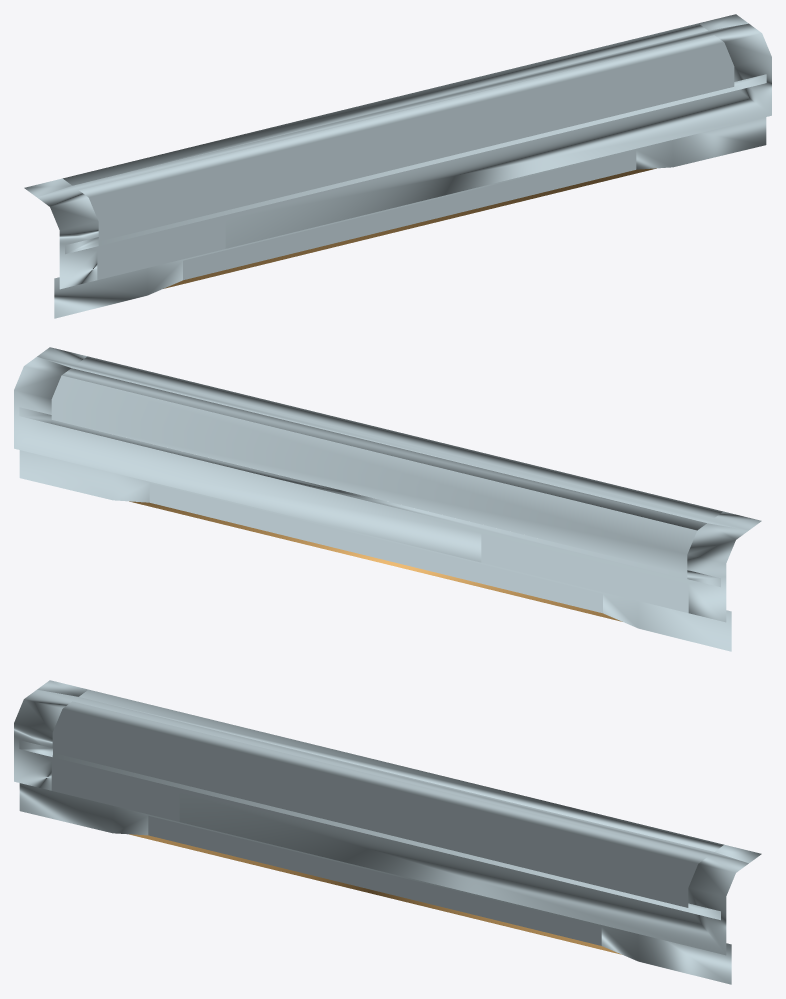
File: roomlg_b_addon_pilar_archway_08x01x02_lod3.glb
3 views of the same model, one above another, from view 1: azimuth 30°, elevation 25°; view 2: azimuth 150°, elevation 25°; view 3: azimuth 330°, elevation 25° (orthographic).
Bounding box in the file's own units: 7.99 × 1.26 × 0.8915.
